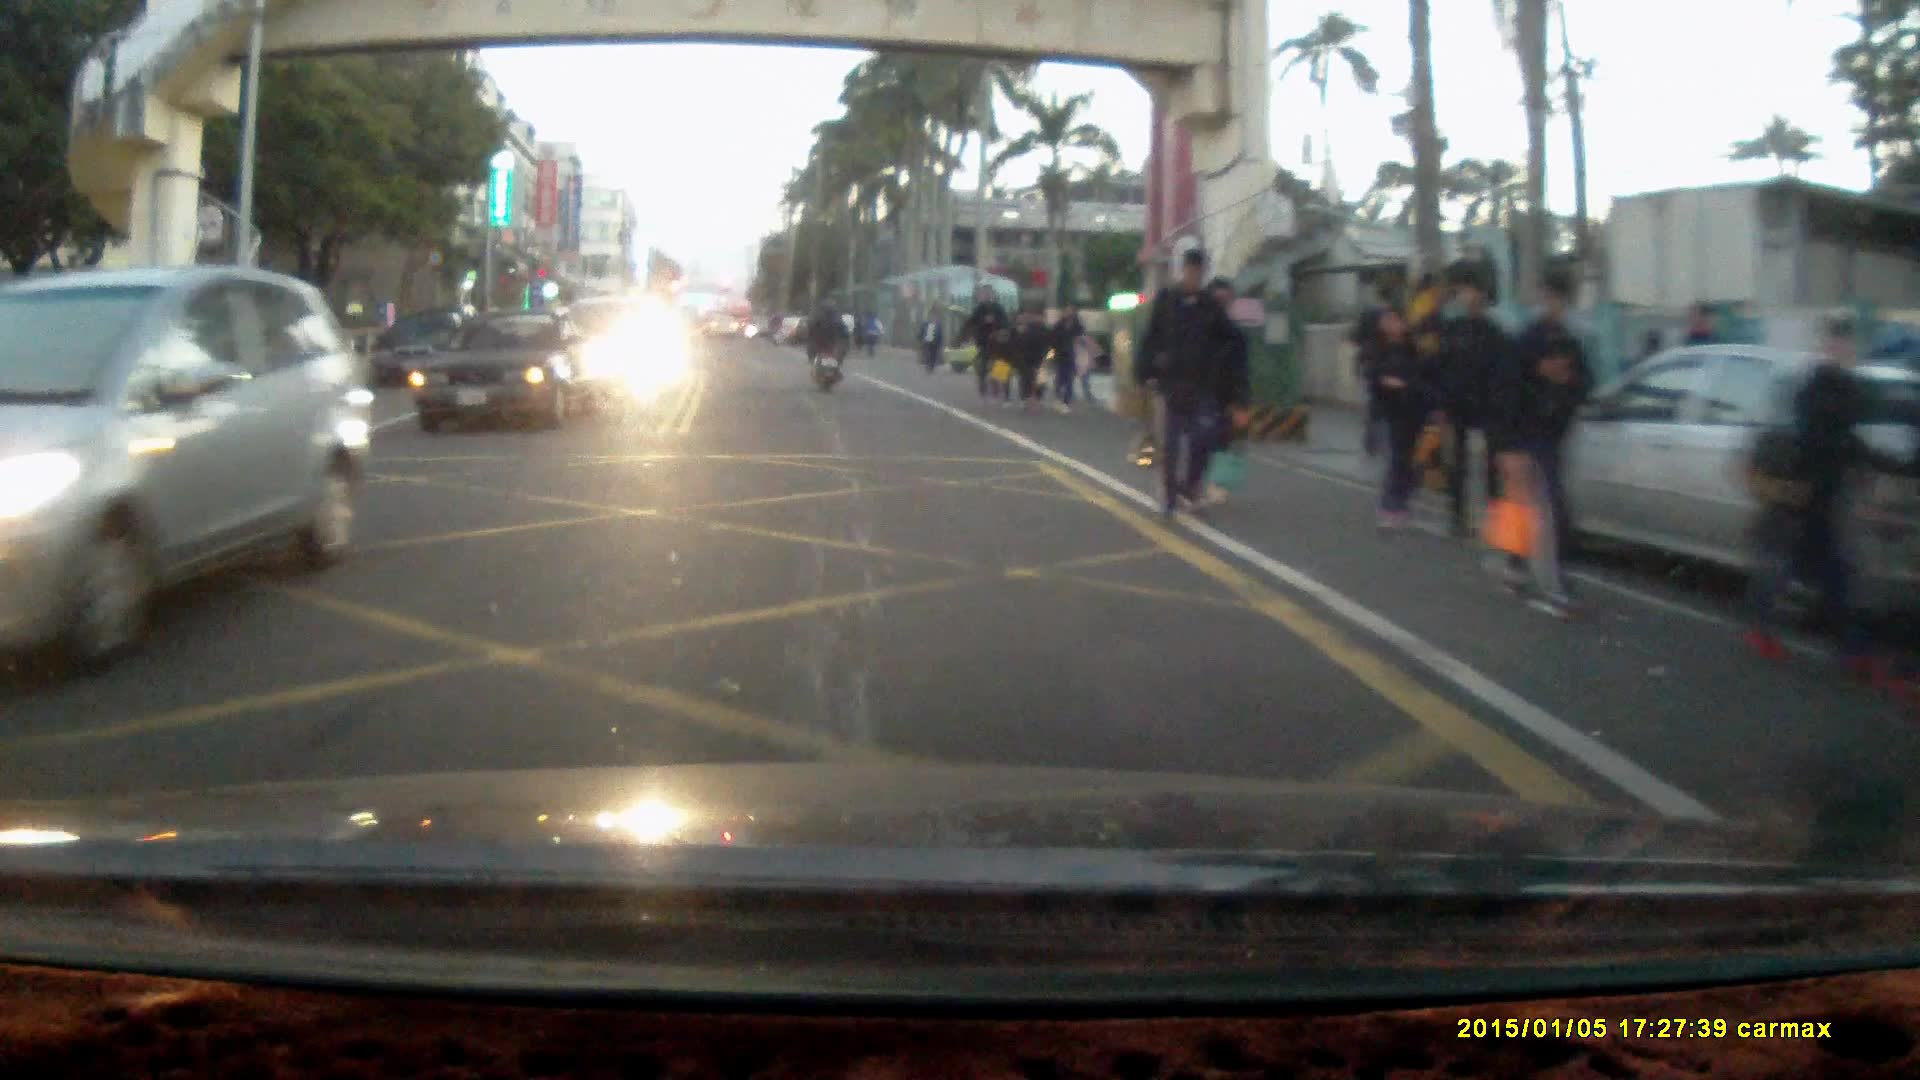pedestrian: (1745, 314, 1884, 707), (1492, 263, 1600, 622), (1132, 244, 1230, 518), (1428, 271, 1514, 546), (1365, 303, 1433, 536), (1044, 300, 1089, 416), (967, 281, 1007, 404), (1002, 301, 1044, 409), (916, 308, 941, 376)
rider: (805, 297, 847, 393)
vehicle: (1, 264, 370, 690), (1496, 339, 1913, 638), (409, 309, 611, 433)
